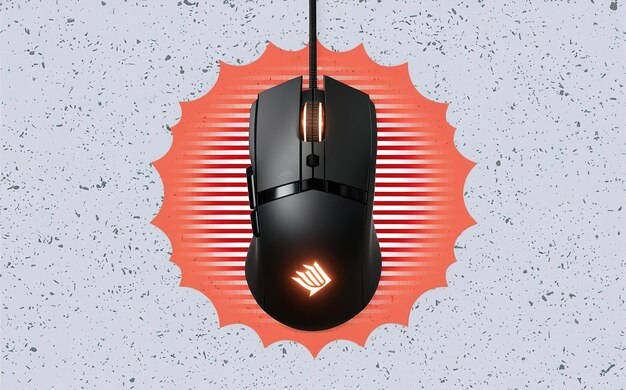mouse: (246, 74, 379, 331)
